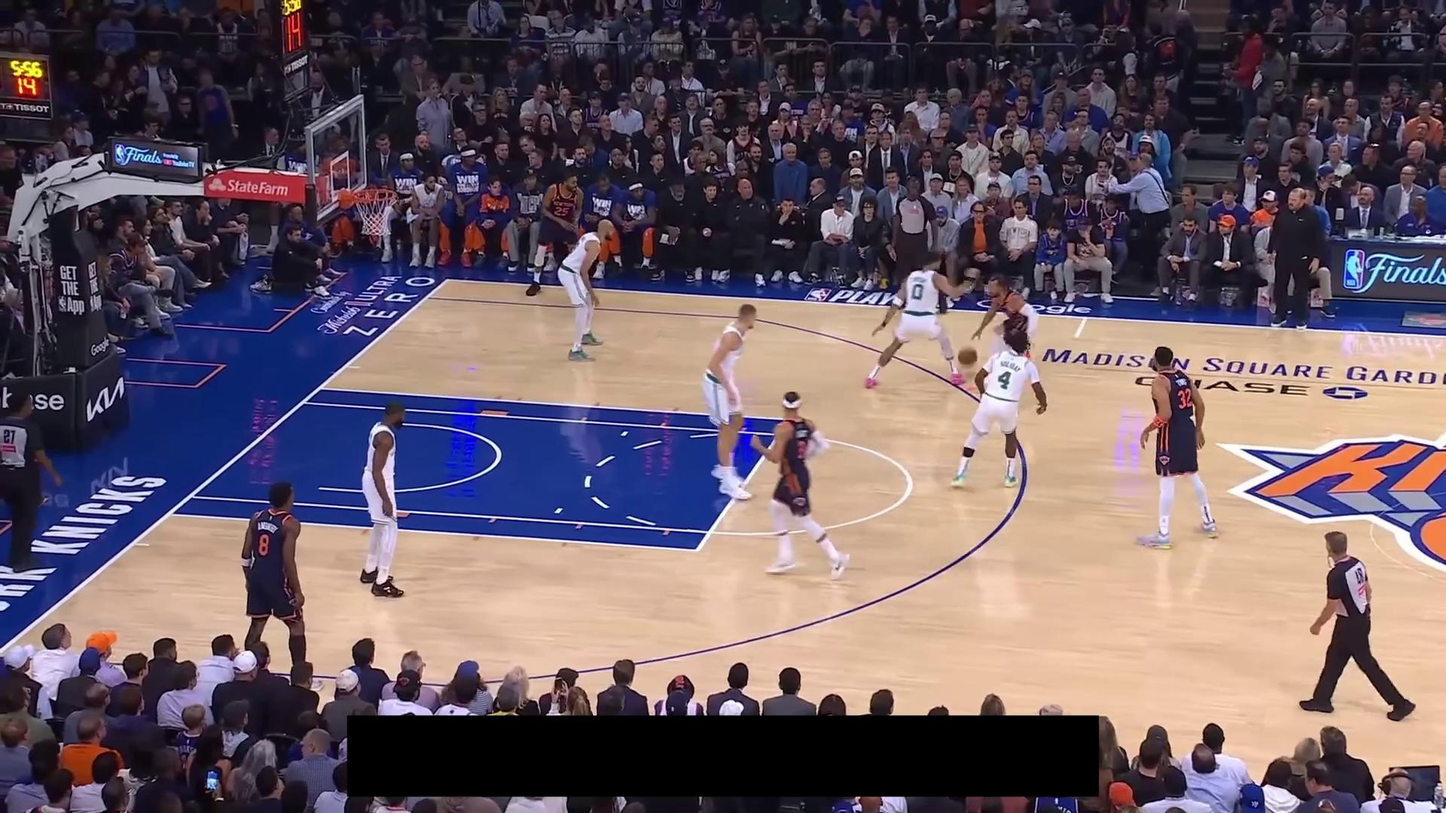ball: (957, 346, 978, 366)
number: (1177, 387, 1191, 410), (257, 533, 270, 557), (998, 370, 1012, 390), (796, 440, 808, 460), (911, 283, 924, 300), (554, 205, 570, 217)
player: (749, 389, 853, 583), (238, 480, 324, 691), (1136, 345, 1220, 551), (862, 250, 978, 389), (950, 328, 1048, 489), (699, 302, 760, 503), (356, 398, 411, 600), (556, 216, 618, 362), (525, 169, 585, 298)
player-in-possession: (969, 273, 1042, 360)
referee: (1298, 530, 1416, 721), (0, 390, 63, 570), (889, 176, 941, 315)
rim: (353, 187, 398, 202)
